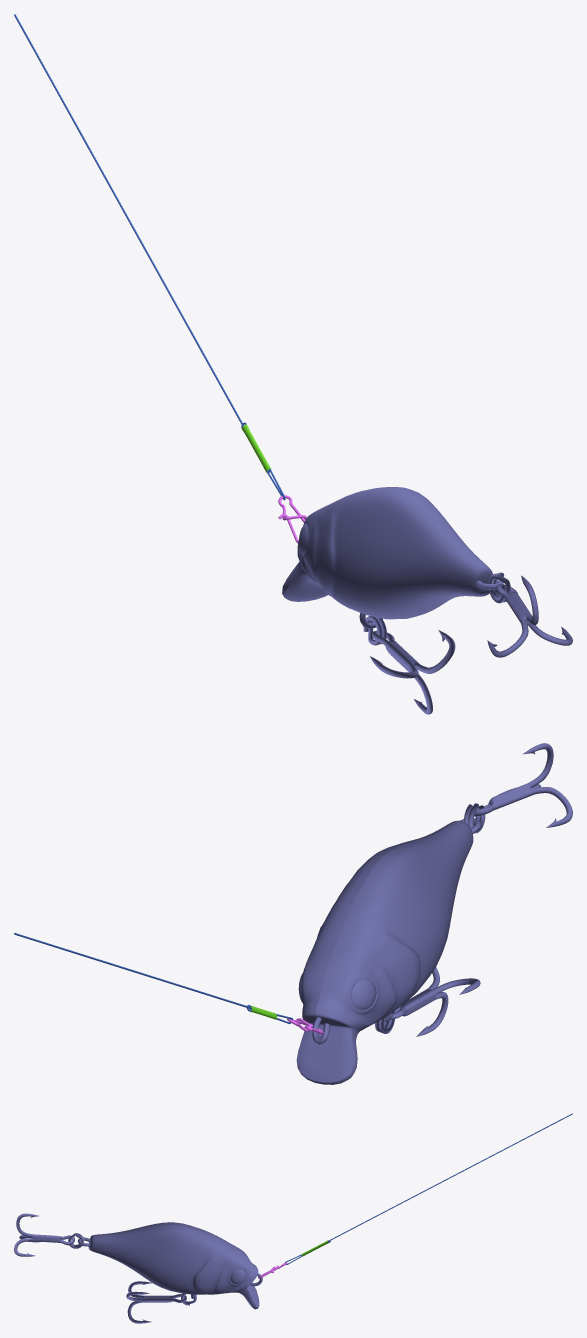
Rendered from chubby2.glb.
3 renders of one model, top to bottom at view 1: azimuth 30°, elevation 25°; view 2: azimuth 150°, elevation 25°; view 3: azimuth 270°, elevation 25°, orthographic. The views are drawn at different scales.
Parts seen in each view (by area): view 1: Chubby38_mesh; view 2: Chubby38_mesh; view 3: Chubby38_mesh.
Part boxes in pixels (x1,y1,x2,y2): Chubby38_mesh: [14, 14, 572, 714]; Chubby38_mesh: [14, 743, 572, 1084]; Chubby38_mesh: [14, 1113, 572, 1323].
Bounding box in the file's own units: 1.96 × 7.77 × 18.72.
